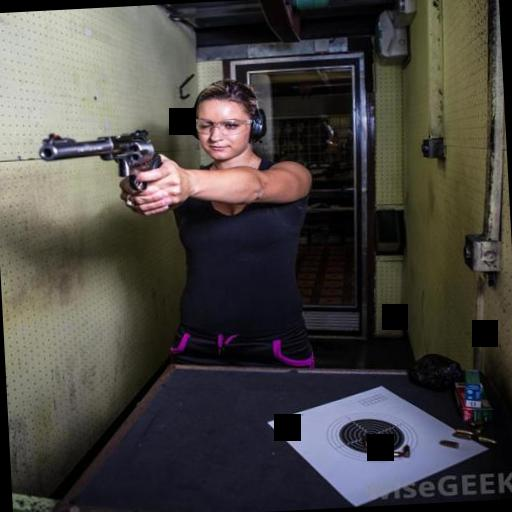Handgun: (38, 126, 166, 196)
